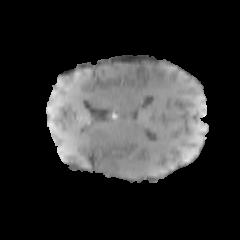glioma: (84, 139, 166, 178)
